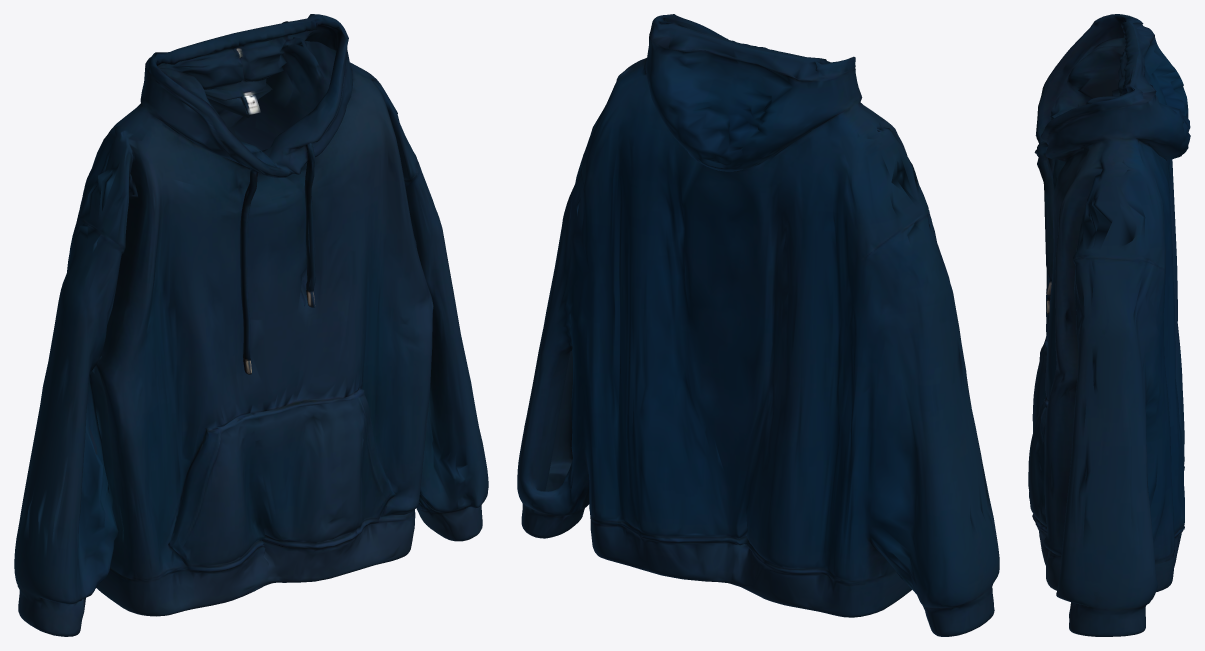
3 views of the same model, side by side, from view 1: azimuth 30°, elevation 25°; view 2: azimuth 150°, elevation 25°; view 3: azimuth 270°, elevation 25° (orthographic). The views are drawn at different scales.
Visible parts, largest first — view 1: TT08-W01_hy; view 2: TT08-W01_hy; view 3: TT08-W01_hy.
Boxes of the visible parts, <box> form: TT08-W01_hy: <box>14,14,488,636</box>; TT08-W01_hy: <box>517,14,999,636</box>; TT08-W01_hy: <box>1028,14,1190,636</box>.
Bounding box in the file's own units: 0.8823 × 1 × 0.3001.
Materials: 1 (1 with a texture image).
